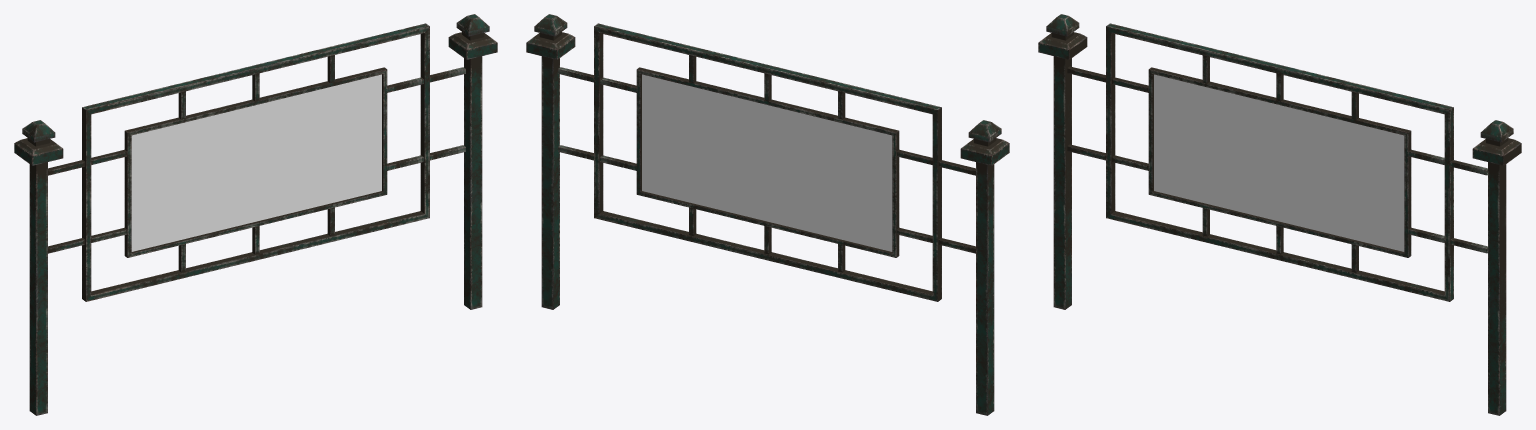
The model's file is park_billboard.glb.
The picture shows the model from 3 angles, left to right: view 1: azimuth 30°, elevation 25°; view 2: azimuth 150°, elevation 25°; view 3: azimuth 330°, elevation 25°; orthographic projection.
Parts seen in each view (by area): view 1: Object_3, Object_2; view 2: Object_3, Object_2; view 3: Object_3, Object_2.
Part boxes in pixels (<box>): Object_3: <box>14,14,497,415</box>; Object_2: <box>131,74,381,251</box>; Object_3: <box>526,14,1009,415</box>; Object_2: <box>642,74,892,251</box>; Object_3: <box>1038,14,1521,415</box>; Object_2: <box>1154,74,1404,251</box>.
Bounding box in the file's own units: 203 × 122 × 13.54.
Materials: 2 (2 with a texture image).
